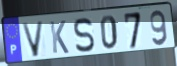0: (99, 14, 118, 51)
7: (123, 11, 143, 50)
9: (149, 9, 169, 48)
K: (48, 20, 70, 55)
S: (73, 17, 96, 54)
V: (20, 20, 45, 59)
